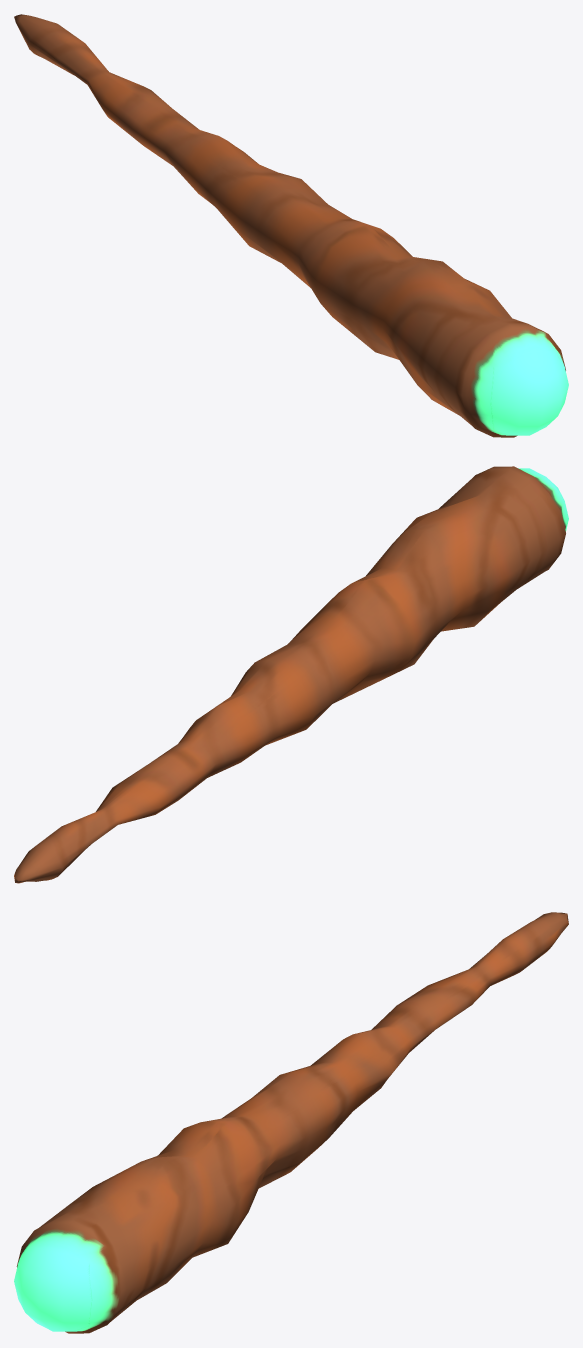
File: MagicWand.fbx
The picture shows the model from 3 angles, top to bottom: view 1: azimuth 30°, elevation 25°; view 2: azimuth 150°, elevation 25°; view 3: azimuth 330°, elevation 25°; orthographic projection.
Parts seen in each view (by area): view 1: Cube.001; view 2: Cube.001; view 3: Cube.001.
Boxes of the visible parts, <box> form: Cube.001: <box>14,14,568,437</box>; Cube.001: <box>14,466,568,883</box>; Cube.001: <box>14,912,568,1333</box>.
Bounding box in the file's own units: 13.37 × 13.5 × 114.
1 material, 1 textured.
